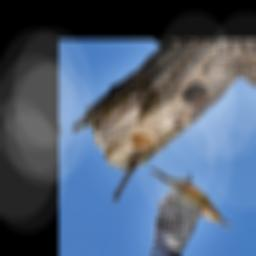Woodpecker: (139, 161, 238, 256)
